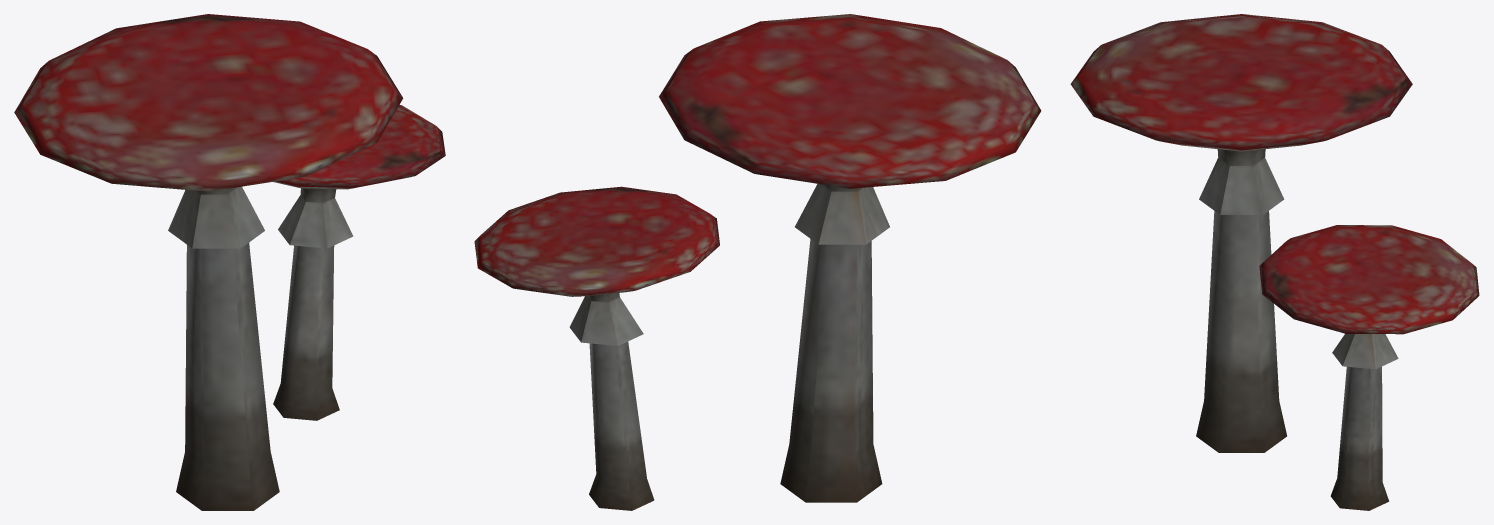
The model's file is mushroom_n_4_1.obj.
3 views of the same model, side by side, from view 1: azimuth 30°, elevation 25°; view 2: azimuth 150°, elevation 25°; view 3: azimuth 270°, elevation 25° (orthographic). The views are drawn at different scales.
Visible parts, largest first — view 1: mushroom_n_4_1; view 2: mushroom_n_4_1; view 3: mushroom_n_4_1.
Part boxes in pixels (box(x1,y1,x2,y2)): mushroom_n_4_1: box(14, 14, 445, 510); mushroom_n_4_1: box(474, 14, 1041, 510); mushroom_n_4_1: box(1070, 14, 1479, 510).
Bounding box in the file's own units: 0.1268 × 0.1094 × 0.1108.
